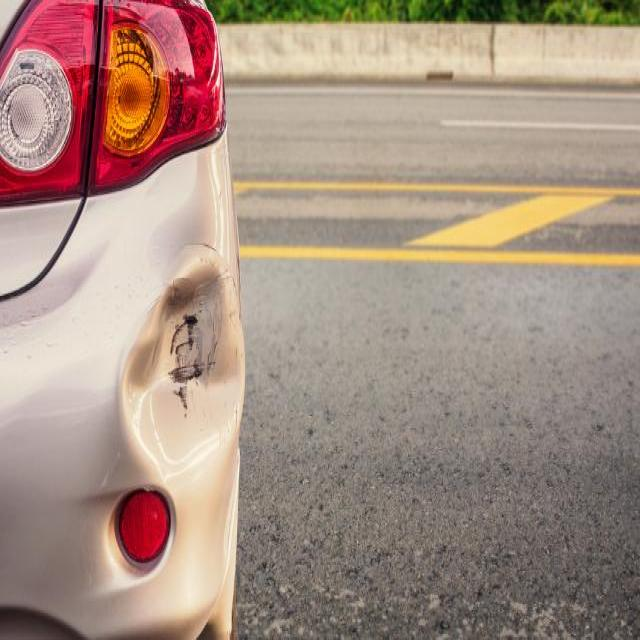Dent: (168, 309, 200, 366), (168, 361, 208, 383), (97, 451, 117, 491), (261, 614, 295, 636), (172, 380, 188, 413), (169, 278, 177, 300), (233, 400, 238, 425), (228, 306, 236, 320), (234, 342, 238, 360)
